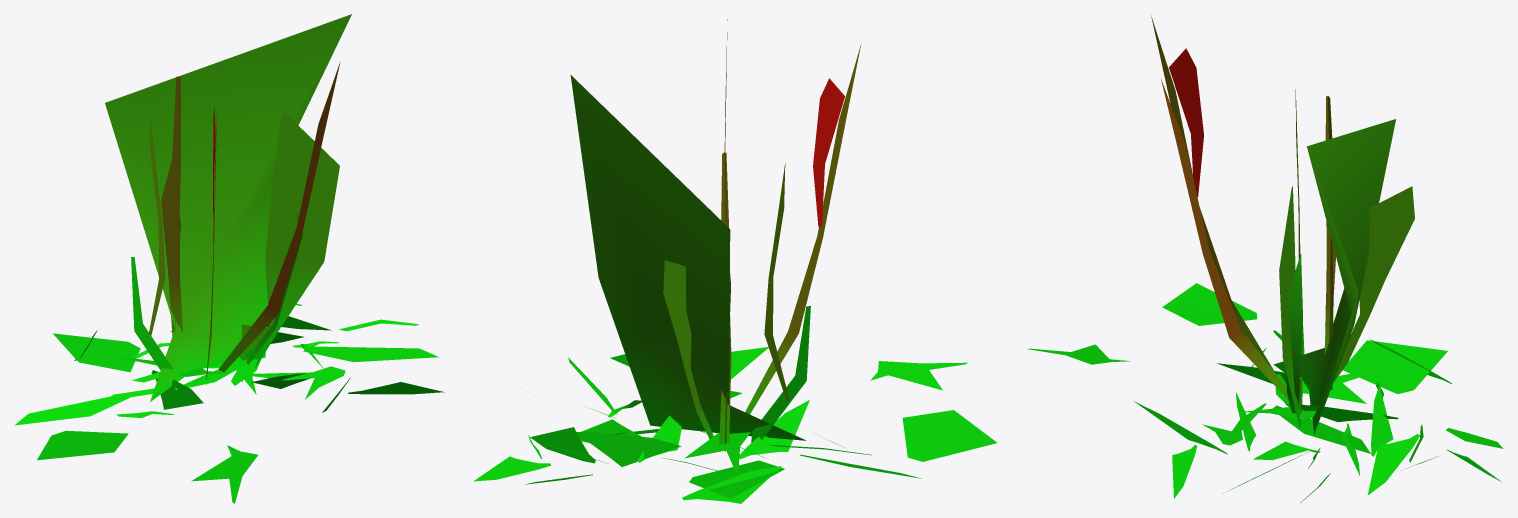
Rendered from Dead Shrubs_LOD1_Var2_vdknafgha.fbx.
3 renders of one model, left to right at view 1: azimuth 30°, elevation 25°; view 2: azimuth 150°, elevation 25°; view 3: azimuth 270°, elevation 25°, orthographic.
Visible parts, largest first — view 1: _oeft_Var2_LOD1; view 2: _oeft_Var2_LOD1; view 3: _oeft_Var2_LOD1.
Part boxes in pixels (x1=…): _oeft_Var2_LOD1: x1=14, y1=14, x2=444, y2=503; _oeft_Var2_LOD1: x1=474, y1=19, x2=996, y2=503; _oeft_Var2_LOD1: x1=1027, y1=15, x2=1503, y2=502.
Bounding box in the file's own units: 42.54 × 34.55 × 40.17.
